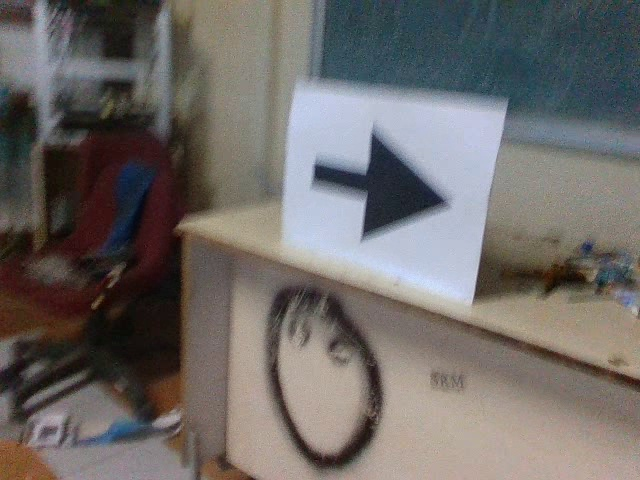Right: (305, 115, 459, 244)
